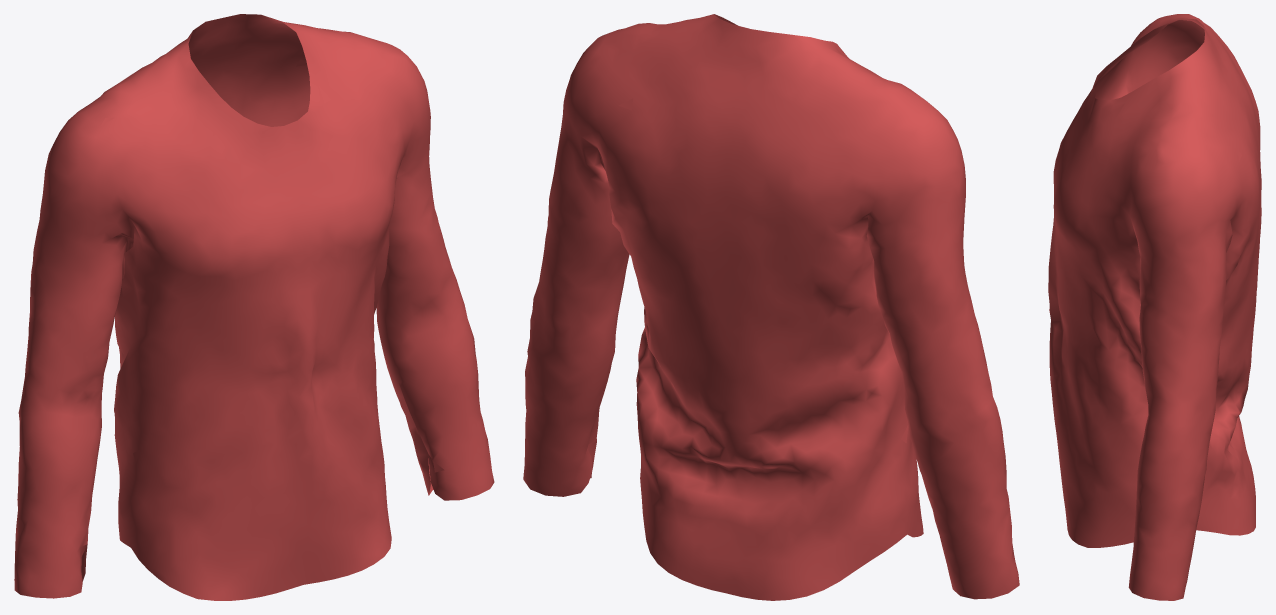
File: underwear.fbx
3 renders of one model, left to right at view 1: azimuth 30°, elevation 25°; view 2: azimuth 150°, elevation 25°; view 3: azimuth 270°, elevation 25°, orthographic. The views are drawn at different scales.
Parts seen in each view (by area): view 1: Pattern2D_677235, Pattern2D_677236, Pattern2D_872544, Pattern2D_872543, Pattern2D_651172, Pattern2D_606340, Pattern2D_951921, Pattern2D_951920; view 2: Pattern2D_606340, Pattern2D_872544, Pattern2D_872543, Pattern2D_651172, Pattern2D_951921, Pattern2D_951920, Pattern2D_677235; view 3: Pattern2D_677236, Pattern2D_872543, Pattern2D_606340, Pattern2D_651172, Pattern2D_872544, Pattern2D_677235, Pattern2D_951920.
Part boxes in pixels (bbox=[...]): Pattern2D_677235: bbox=[85, 71, 312, 600]; Pattern2D_677236: bbox=[284, 46, 416, 584]; Pattern2D_872544: bbox=[15, 120, 134, 554]; Pattern2D_872543: bbox=[376, 56, 487, 460]; Pattern2D_651172: bbox=[68, 14, 406, 135]; Pattern2D_606340: bbox=[114, 54, 310, 547]; Pattern2D_951921: bbox=[14, 544, 87, 598]; Pattern2D_951920: bbox=[416, 439, 494, 500]; Pattern2D_606340: bbox=[586, 88, 907, 600]; Pattern2D_872544: bbox=[866, 116, 1012, 557]; Pattern2D_872543: bbox=[525, 40, 629, 461]; Pattern2D_651172: bbox=[586, 14, 940, 159]; Pattern2D_951921: bbox=[942, 544, 1019, 599]; Pattern2D_951920: bbox=[523, 439, 596, 496]; Pattern2D_677235: bbox=[833, 42, 945, 537]; Pattern2D_677236: bbox=[1048, 78, 1165, 547]; Pattern2D_872543: bbox=[1130, 160, 1236, 561]; Pattern2D_606340: bbox=[1196, 47, 1261, 535]; Pattern2D_651172: bbox=[1154, 14, 1237, 179]; Pattern2D_872544: bbox=[1126, 20, 1204, 94]; Pattern2D_677235: bbox=[1048, 19, 1157, 318]; Pattern2D_951920: bbox=[1128, 547, 1191, 600].
Size of the model in its own units: 6.07 by 6.45 by 2.6.
